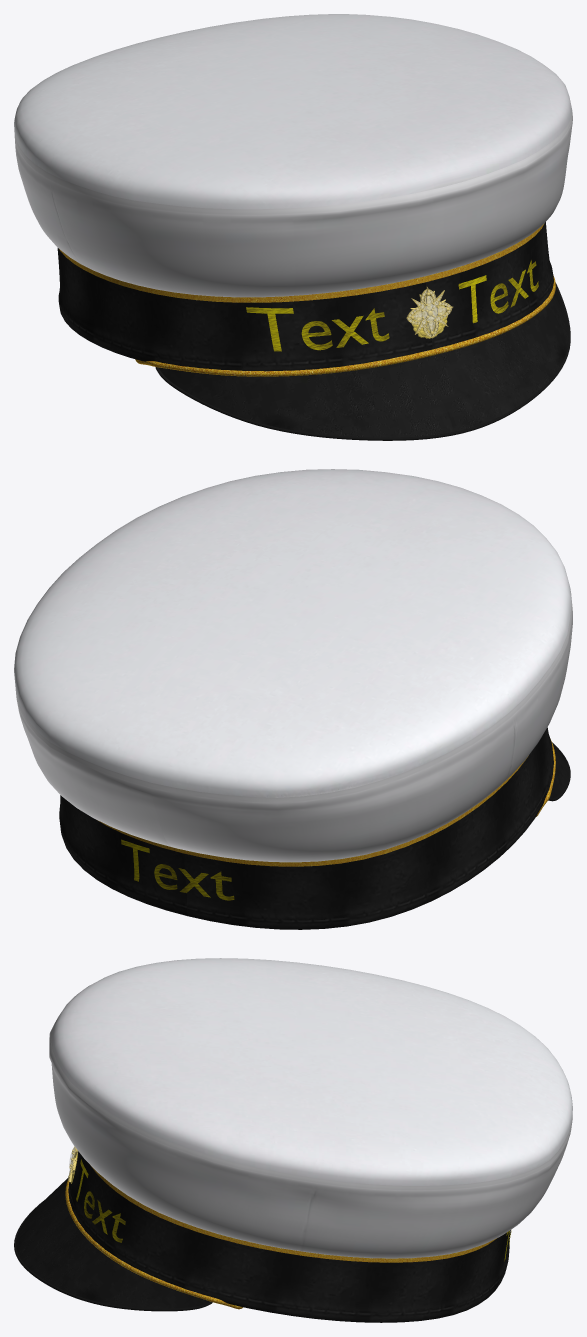
The model's file is cap_version_9-transformed.glb.
3 renders of one model, top to bottom at view 1: azimuth 30°, elevation 25°; view 2: azimuth 150°, elevation 25°; view 3: azimuth 270°, elevation 25°, orthographic. The views are drawn at different scales.
Parts seen in each view (by area): view 1: the top of the cap, the middle part, the fornt part, gold.001, gold, Retopo_Text, cap line 1, Retopo_Text.001, Plane, badge 3; view 2: the top of the cap, the middle part, gold.001, Retopo_Text.002, the fornt part; view 3: the top of the cap, the middle part, the fornt part, gold.001, gold, cap line 1, Retopo_Text.001.
Part boxes in pixels (x1,y1,x2,y2): the top of the cap: (14,14,572,297); the middle part: (57,222,553,371); the fornt part: (159,287,569,437); gold.001: (59,223,544,302); gold: (135,275,555,376); Retopo_Text: (246,307,389,351); cap line 1: (155,283,570,440); Retopo_Text.001: (458,260,538,323); Plane: (407,289,452,337); badge 3: (406,286,452,338); the top of the cap: (14,469,572,862); the middle part: (59,727,553,929); gold.001: (97,755,528,866); Retopo_Text.002: (121,839,234,900); the fornt part: (550,742,569,798); the top of the cap: (49,958,572,1258); the middle part: (68,1151,510,1322); the fornt part: (16,1177,209,1308); gold.001: (90,1165,496,1262); gold: (65,1179,242,1309); cap line 1: (14,1200,212,1311); Retopo_Text.001: (76,1159,125,1242).
Size of the model in its own units: 1.76 by 0.9352 by 2.04.
Materials: 17 (12 with a texture image).
